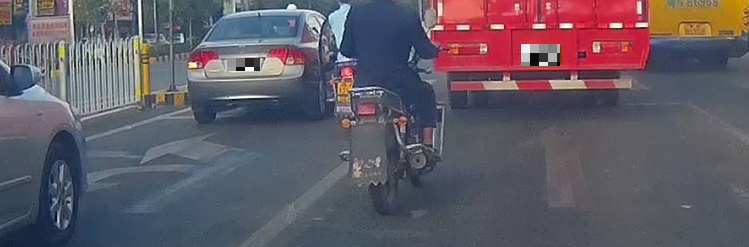L_light: (186, 51, 219, 70)
R_light: (267, 46, 309, 65)
T_light: (245, 15, 265, 21)
day-left: (186, 8, 309, 123)
plate_1: (227, 58, 260, 71)
plate_2: (521, 44, 560, 66)
